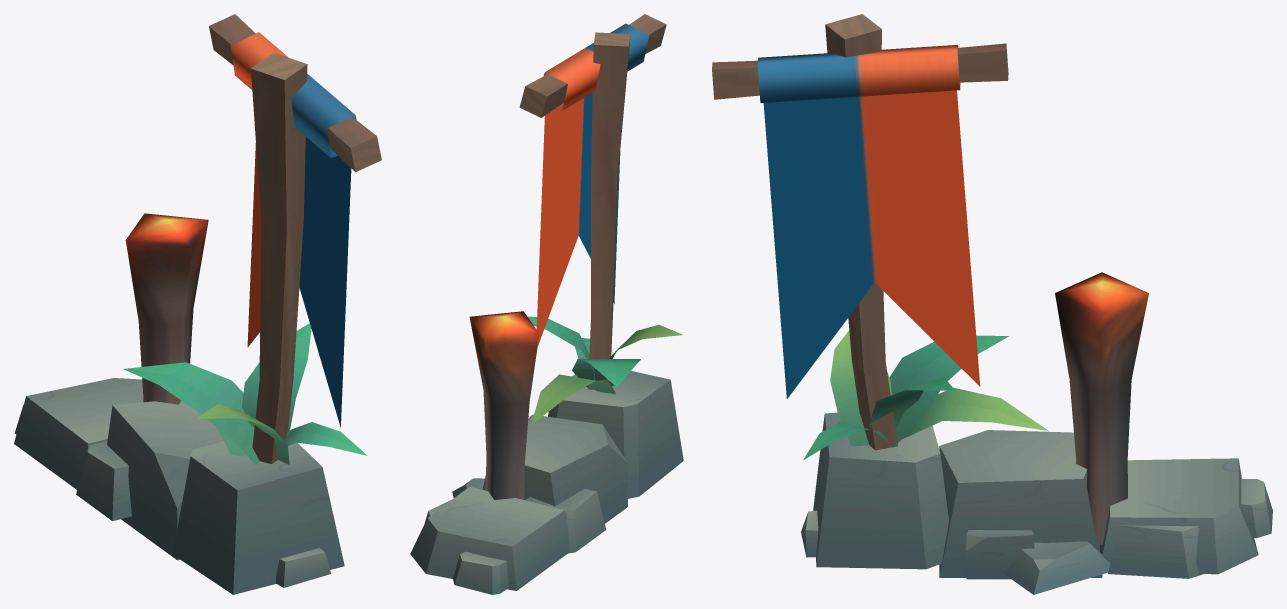
The model's file is Wall1B-010_40_23_3546.fbx.
The picture shows the model from 3 angles, left to right: view 1: azimuth 30°, elevation 25°; view 2: azimuth 150°, elevation 25°; view 3: azimuth 270°, elevation 25°; orthographic projection. The views are drawn at different scales.
Visible parts, largest first — view 1: Wall1 (1), Wood1.002 (1), Torch (1), Flag5.001 (1), Plant2 (1), ClothTop1 (1), WoodTop (1); view 2: Wall1 (1), Torch (1), Flag5.001 (1), Wood1.002 (1), Plant2 (1), ClothTop1 (1), WoodTop (1); view 3: Wall1 (1), Flag5.001 (1), Torch (1), Plant2 (1), ClothTop1 (1), Wood1.002 (1), WoodTop (1).
Part boxes in pixels (x1,y1,x2,y2): Wall1 (1): (14,378,344,594); Wood1.002 (1): (251,52,307,463); Torch (1): (76,213,208,520); Flag5.001 (1): (247,137,351,427); Plant2 (1): (123,323,367,464); ClothTop1 (1): (230,32,356,158); WoodTop (1): (209,14,381,172); Wall1 (1): (410,371,683,594); Torch (1): (425,311,606,553); Flag5.001 (1): (536,93,620,346); Wood1.002 (1): (588,32,630,389); Plant2 (1): (528,316,682,424); ClothTop1 (1): (543,23,649,110); WoodTop (1): (519,14,666,117); Wall1 (1): (801,412,1272,579); Flag5.001 (1): (763,90,980,398); Torch (1): (1003,272,1204,594); Plant2 (1): (803,330,1048,460); ClothTop1 (1): (757,45,960,102); Wood1.002 (1): (825,14,897,450); WoodTop (1): (712,43,1008,99).
Bounding box in the file's own units: 1.5 × 3.92 × 3.76.
